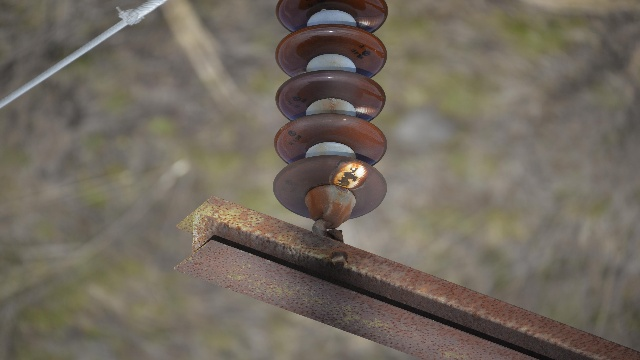insulator_unspecified: (273, 0, 391, 217)
pollution_flashover_local: (334, 158, 368, 194), (351, 14, 382, 33), (358, 102, 379, 129)
